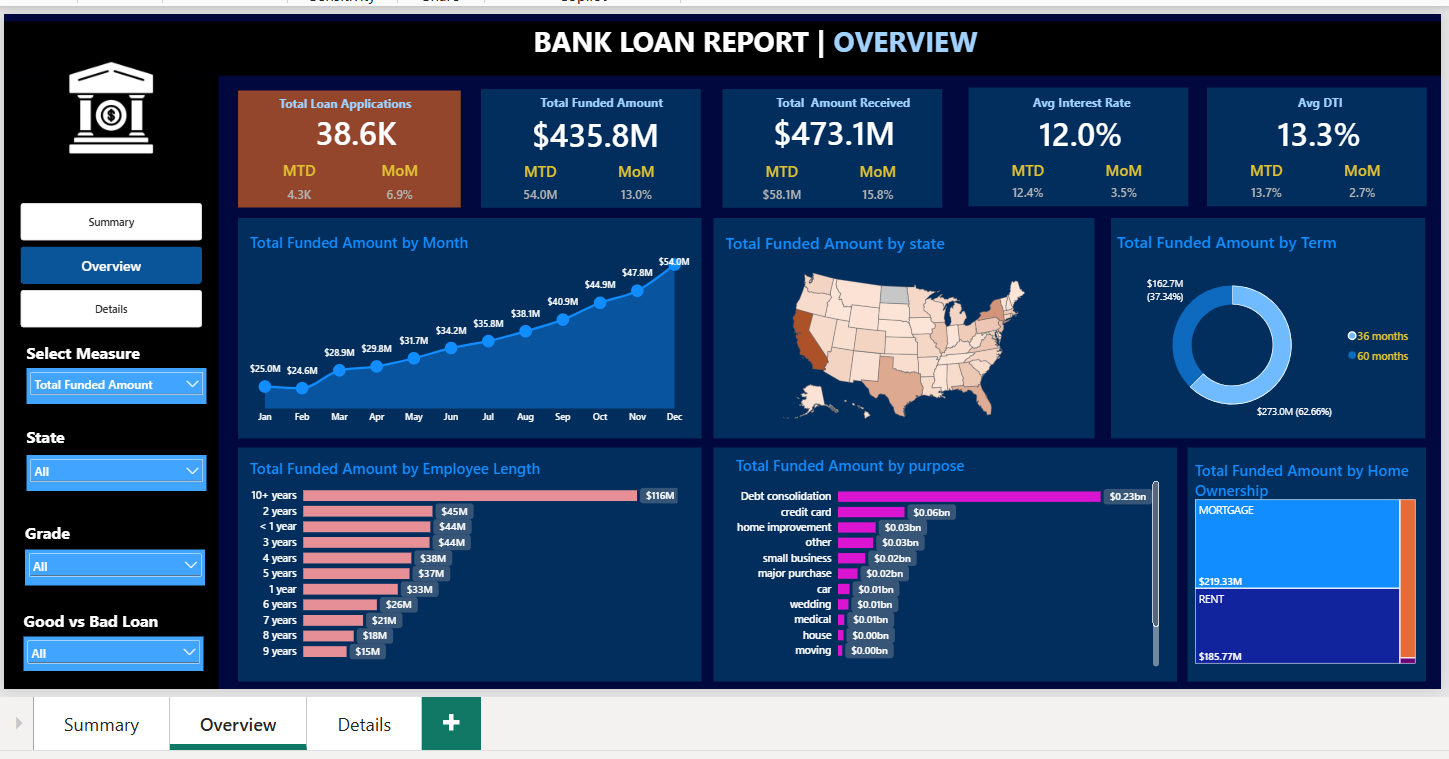

The page's visual inventory and layout, read from the dashboard file:
{"tool":"powerbi","page":{"name":"Overview","canvas":[1915,900],"ordinal":1},"visuals":[{"type":"shape","box":[0,10,1920,72],"z":0},{"type":"shape","box":[1286,98,293,158.4],"z":0,"group":"g5"},{"type":"shape","box":[1604,98,293,158.4],"z":0,"group":"g6"},{"type":"shape","box":[636.9,100,293,158.4],"z":0,"group":"g3"},{"type":"shape","box":[958,100,293,158.4],"z":0,"group":"g4"},{"type":"group","id":"g1","title":"Group 2","box":[300,102,310,174],"z":0,"group":"g2"},{"type":"shape","box":[312,102,297,156],"z":0,"group":"g1"},{"type":"cardVisual","fields":{"Data":["bank_loan_data.Total Amount Received"]},"box":[1010,128,236,56],"z":1000,"group":"g4"},{"type":"cardVisual","fields":{"Data":["bank_loan_data.Total Loan Application"]},"box":[378,132,183.1,50],"z":1000,"group":"g1"},{"type":"cardVisual","fields":{"Data":["bank_loan_data.Avg Interest Rate"]},"box":[1364,134,207.1,47.8],"z":1000,"group":"g5"},{"type":"cardVisual","fields":{"Data":["bank_loan_data.Avg DTI"]},"box":[1682,134,207.1,47.8],"z":1000,"group":"g6"},{"type":"cardVisual","fields":{"Data":["bank_loan_data.Total Funded Amount"]},"box":[688,136,207.1,47.8],"z":1000,"group":"g3"},{"type":"shape","box":[312,272,618,294],"z":1000},{"type":"shape","box":[0,10,1920,72],"z":2000},{"type":"textbox","box":[300,108,310,32],"z":2000,"group":"g1"},{"type":"card","title":"MTD","fields":{"Values":["bank_loan_data.MTD Avg Interest Rate"]},"box":[1293.1,180,142.4,91.8],"z":2000,"group":"g5"},{"type":"card","title":"MTD","fields":{"Values":["bank_loan_data.MTD Avg DTI"]},"box":[1611.1,180,142.4,91.8],"z":2000,"group":"g6"},{"type":"card","title":"MTD","fields":{"Values":["bank_loan_data.MTD Funded Amount"]},"box":[644,182,142.4,91.8],"z":2000,"group":"g3"},{"type":"card","title":"MTD","fields":{"Values":["bank_loan_data.MTD Total Amount Received"]},"box":[965.1,182,142.4,91.8],"z":2000,"group":"g4"},{"type":"shape","box":[0,82,286,818],"z":3000},{"type":"card","title":"MTD","fields":{"Values":["bank_loan_data.MTD Loan Applications"]},"box":[312,180,163.3,96],"z":3000,"group":"g1"},{"type":"card","title":"MoM","fields":{"Values":["bank_loan_data.MoM Avg Int Rate"]},"box":[1421.1,180,142.4,91.8],"z":3000,"group":"g5"},{"type":"card","title":"MoM","fields":{"Values":["bank_loan_data.MoM Avg DTI"]},"box":[1739.1,180,142.4,91.8],"z":3000,"group":"g6"},{"type":"card","title":"MoM","fields":{"Values":["bank_loan_data.MoM Funded Amount"]},"box":[772,182,142.4,91.8],"z":3000,"group":"g3"},{"type":"card","title":"MoM","fields":{"Values":["bank_loan_data.MoM Total Amount Received"]},"box":[1093.1,182,142.4,91.8],"z":3000,"group":"g4"},{"type":"textbox","box":[706,10,660,62],"z":4000},{"type":"textbox","box":[689,106,218,40],"z":4000,"group":"g3"},{"type":"textbox","box":[1010.1,106,218,40],"z":4000,"group":"g4"},{"type":"textbox","box":[1318,106,238,38],"z":4000,"group":"g5"},{"type":"textbox","box":[1636,106,238,38],"z":4000,"group":"g6"},{"type":"card","title":"MoM","fields":{"Values":["bank_loan_data.MoM Loan Applications"]},"box":[445.6,180,163.3,96],"z":4000,"group":"g1"},{"type":"group","id":"g2","title":"Group 1","box":[300,102,310,174],"z":5000},{"type":"group","id":"g3","title":"Group 3","box":[636.9,100,293,173.8],"z":6000},{"type":"group","id":"g4","title":"Group 3","box":[958,100,294,174],"z":7000},{"type":"group","id":"g5","title":"Group 3","box":[1286,98,293,173.8],"z":8000},{"type":"group","id":"g6","title":"Group 3","box":[1604,98,294,174],"z":9000},{"type":"slicer","fields":{"Values":["bank_loan_data.address_state"]},"box":[30.7,588,240,48],"z":10000},{"type":"textbox","box":[30.7,548,154,40],"z":11000},{"type":"slicer","fields":{"Values":["bank_loan_data.grade"]},"box":[28,714.7,240,48],"z":12000},{"type":"textbox","box":[28,676.7,168,38],"z":13000},{"type":"slicer","fields":{"Values":["bank_loan_data.purpose"]},"box":[26.7,830.7,240,46],"z":14000},{"type":"textbox","box":[26.7,794.7,202,36],"z":15000},{"type":"areaChart","fields":{"Category":["Date Table.Month"],"Y":["bank_loan_data.Total Funded Amount"]},"box":[312,276,618,290],"z":16000},{"type":"slicer","fields":{"Values":["Select Measure.Select Measure"]},"box":[30.7,472.7,240,48],"z":17000},{"type":"textbox","box":[30.7,436.7,164,36],"z":18000},{"type":"shape","box":[946,272,508,294],"z":19000},{"type":"shapeMap","title":"Total Funded Amount by state","fields":{"Category":["bank_loan_data.address_state"],"Value":["bank_loan_data.Total Funded Amount"]},"box":[946,276,508,290],"z":20000},{"type":"shape","box":[1476,272,419,294],"z":21000},{"type":"donutChart","fields":{"Category":["bank_loan_data.term"],"Y":["bank_loan_data.Total Funded Amount"]},"box":[1468,274,430,292],"z":22000},{"type":"shape","box":[312,578,618,312],"z":23000},{"type":"barChart","fields":{"Category":["bank_loan_data.emp_length"],"Y":["bank_loan_data.Total Funded Amount"]},"box":[312,578,602,304],"z":24000},{"type":"shape","box":[946,578,618,312],"z":25000},{"type":"barChart","fields":{"Category":["bank_loan_data.purpose"],"Y":["bank_loan_data.Total Funded Amount"]},"box":[960,574,596,312],"z":26000},{"type":"shape","box":[1578,578,318,312],"z":27000},{"type":"treemap","fields":{"Group":["bank_loan_data.home_ownership"],"Values":["bank_loan_data.Total Funded Amount"]},"box":[1572,580,326,302],"z":28000},{"type":"pageNavigator","box":[22,252,242,168],"z":29000},{"type":"image","box":[46,30,194,190],"z":30000}]}

Visuals, with their boxes on the page's 1915x900 design canvas (x1, y1, x2, y2). These are canvas units, not pixel positions in the 1449x759 screenshot, which may show the page scaled, cropped or inside an application window:
shape: (0, 10, 1920, 82)
shape: (1286, 98, 1579, 256)
shape: (1604, 98, 1897, 256)
shape: (637, 100, 930, 258)
shape: (958, 100, 1251, 258)
"Group 2" group: (300, 102, 610, 276)
shape: (312, 102, 609, 258)
cardVisual - bank_loan_data.Total Amount Received: (1010, 128, 1246, 184)
cardVisual - bank_loan_data.Total Loan Application: (378, 132, 561, 182)
cardVisual - bank_loan_data.Avg Interest Rate: (1364, 134, 1571, 182)
cardVisual - bank_loan_data.Avg DTI: (1682, 134, 1889, 182)
cardVisual - bank_loan_data.Total Funded Amount: (688, 136, 895, 184)
shape: (312, 272, 930, 566)
shape: (0, 10, 1920, 82)
textbox: (300, 108, 610, 140)
"MTD" card: (1293, 180, 1436, 272)
"MTD" card: (1611, 180, 1754, 272)
"MTD" card: (644, 182, 786, 274)
"MTD" card: (965, 182, 1108, 274)
shape: (0, 82, 286, 900)
"MTD" card: (312, 180, 475, 276)
"MoM" card: (1421, 180, 1564, 272)
"MoM" card: (1739, 180, 1882, 272)
"MoM" card: (772, 182, 914, 274)
"MoM" card: (1093, 182, 1236, 274)
textbox: (706, 10, 1366, 72)
textbox: (689, 106, 907, 146)
textbox: (1010, 106, 1228, 146)
textbox: (1318, 106, 1556, 144)
textbox: (1636, 106, 1874, 144)
"MoM" card: (446, 180, 609, 276)
"Group 1" group: (300, 102, 610, 276)
"Group 3" group: (637, 100, 930, 274)
"Group 3" group: (958, 100, 1252, 274)
"Group 3" group: (1286, 98, 1579, 272)
"Group 3" group: (1604, 98, 1898, 272)
slicer - bank_loan_data.address_state: (31, 588, 271, 636)
textbox: (31, 548, 185, 588)
slicer - bank_loan_data.grade: (28, 715, 268, 763)
textbox: (28, 677, 196, 715)
slicer - bank_loan_data.purpose: (27, 831, 267, 877)
textbox: (27, 795, 229, 831)
areaChart - Date Table.Month x bank_loan_data.Total Funded Amount: (312, 276, 930, 566)
slicer - Select Measure.Select Measure: (31, 473, 271, 521)
textbox: (31, 437, 195, 473)
shape: (946, 272, 1454, 566)
"Total Funded Amount by state" shapeMap: (946, 276, 1454, 566)
shape: (1476, 272, 1895, 566)
donutChart - bank_loan_data.term x bank_loan_data.Total Funded Amount: (1468, 274, 1898, 566)
shape: (312, 578, 930, 890)
barChart - bank_loan_data.emp_length x bank_loan_data.Total Funded Amount: (312, 578, 914, 882)
shape: (946, 578, 1564, 890)
barChart - bank_loan_data.purpose x bank_loan_data.Total Funded Amount: (960, 574, 1556, 886)
shape: (1578, 578, 1896, 890)
treemap - bank_loan_data.home_ownership x bank_loan_data.Total Funded Amount: (1572, 580, 1898, 882)
pageNavigator: (22, 252, 264, 420)
image: (46, 30, 240, 220)
